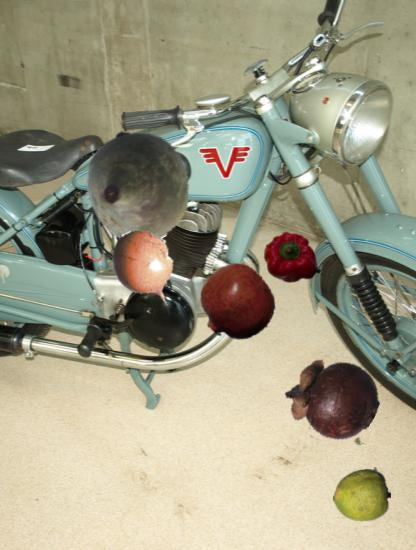Beetroot: (79, 128, 196, 245)
Granadilla: (104, 228, 188, 312)
Limes: (333, 466, 392, 525)
Mangostan: (288, 352, 380, 444)
Pepper: (263, 230, 323, 290)
Pomegranate: (198, 265, 276, 343)
